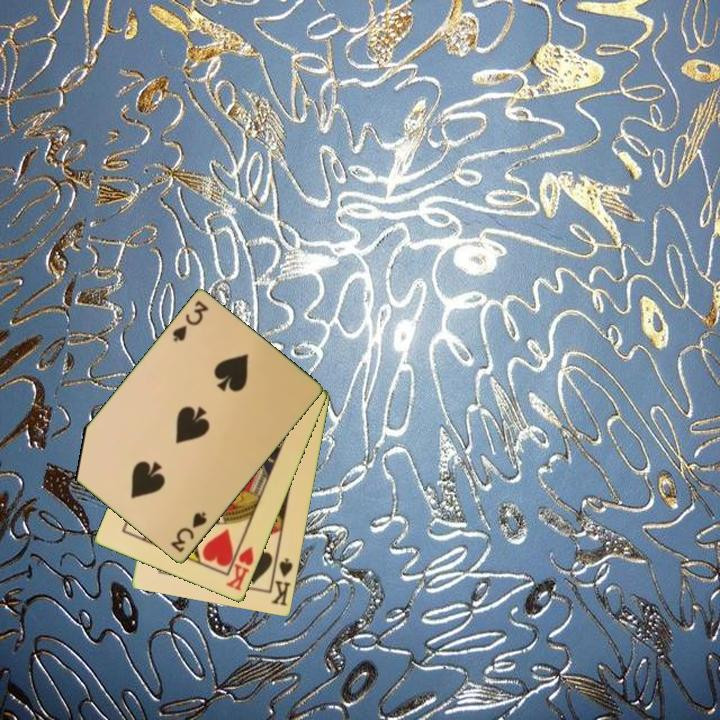3s: (167, 508, 210, 556), (169, 297, 211, 345)
Kh: (223, 537, 257, 594)
Ks: (267, 552, 296, 609)
